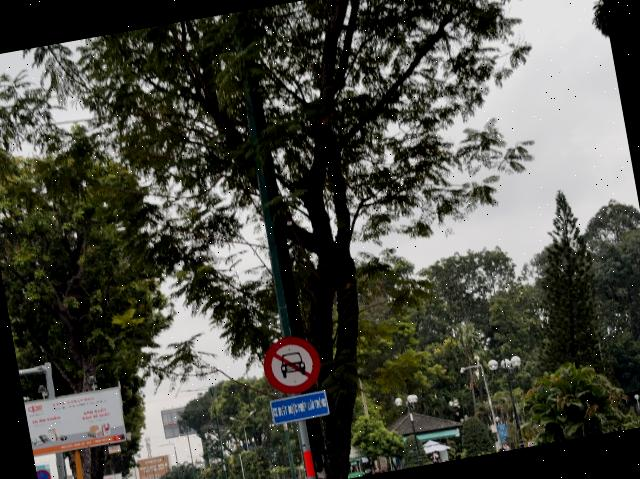cam-o-to: (258, 332, 324, 398)
